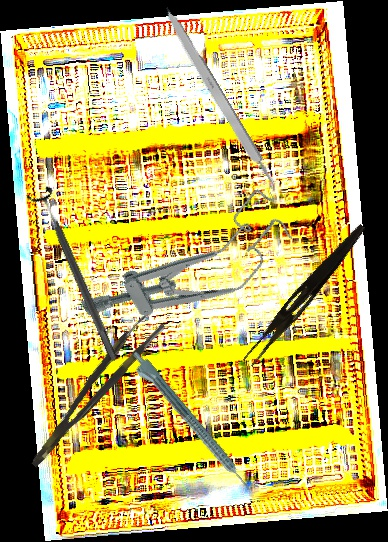Dressing Forceps: (242, 217, 368, 372)
Fixation Ring: (24, 183, 128, 367)
Handpiece: (124, 348, 255, 499)
Scalpel Handle: (158, 5, 278, 189)
Speculum: (73, 184, 304, 358)
Tissue Forceps: (17, 309, 167, 470)
